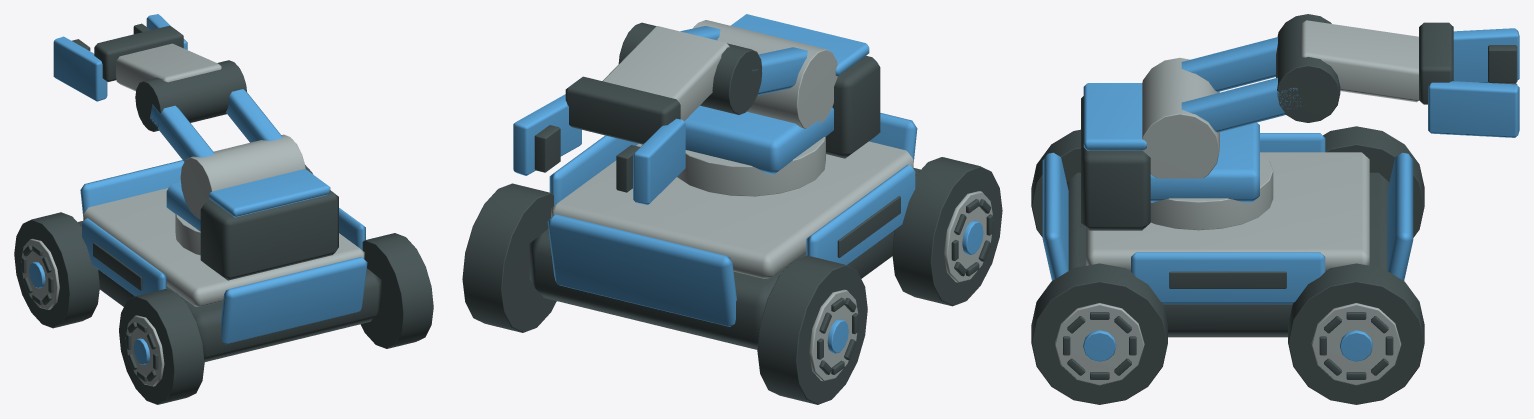
File: engineer-blue.glb
3 renders of one model, left to right at view 1: azimuth 30°, elevation 25°; view 2: azimuth 150°, elevation 25°; view 3: azimuth 270°, elevation 25°, orthographic. The views are drawn at different scales.
Visible parts, largest first — view 1: engineer-chassis, engineer-armor, engineer-mechanics; view 2: engineer-chassis, engineer-mechanics, engineer-armor; view 3: engineer-chassis, engineer-mechanics, engineer-armor.
Part boxes in pixels (bbox=[...]): engineer-chassis: bbox=[14, 23, 433, 404]; engineer-armor: bbox=[29, 14, 367, 364]; engineer-mechanics: bbox=[21, 43, 364, 386]; engineer-chassis: bbox=[462, 22, 1002, 404]; engineer-mechanics: bbox=[551, 20, 992, 381]; engineer-armor: bbox=[513, 14, 983, 353]; engineer-chassis: bbox=[1031, 14, 1517, 404]; engineer-mechanics: bbox=[1055, 20, 1418, 385]; engineer-armor: bbox=[1042, 28, 1519, 361].
Size of the model in its own units: 0.7234 by 0.6021 by 0.914.
